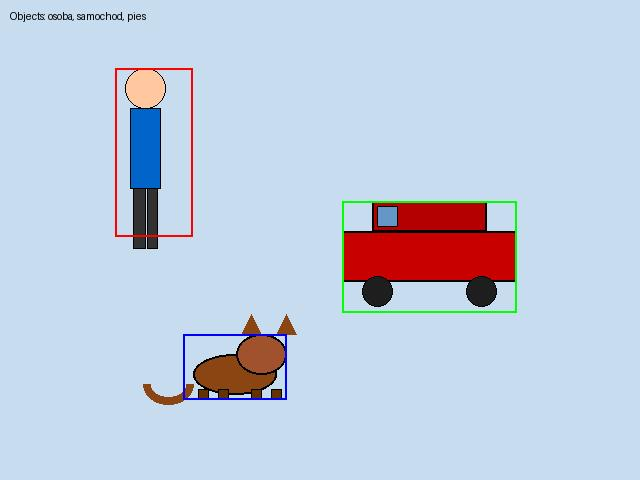osoba: (115, 68, 192, 236)
pies: (183, 334, 286, 399)
samochod: (342, 201, 516, 312)
